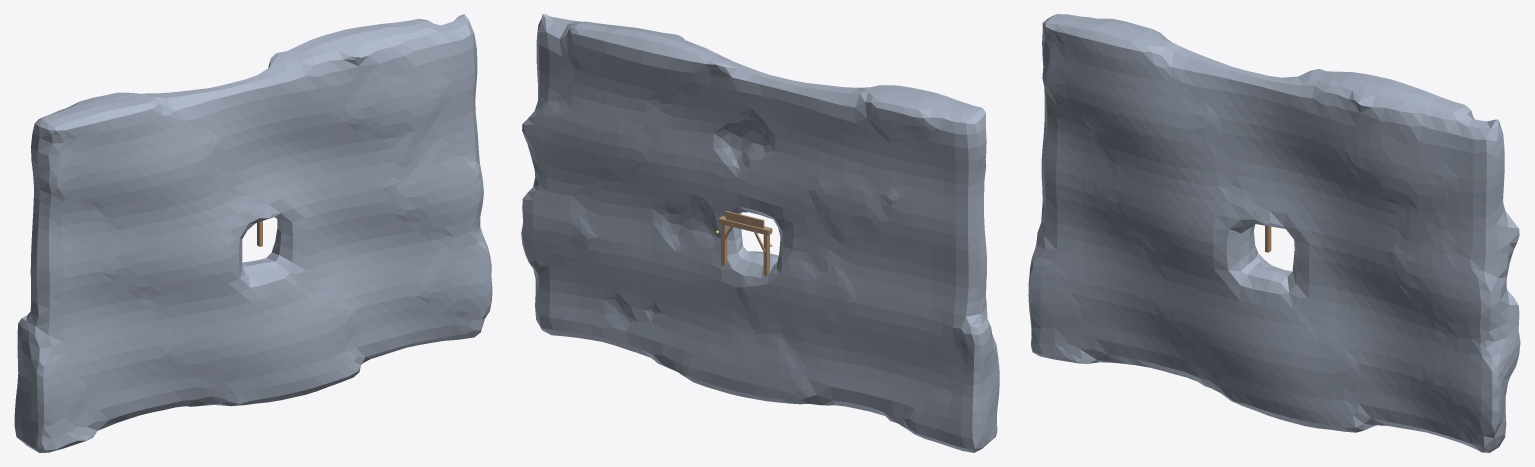
File: MinecartMayhemPortal.glb
3 views of the same model, side by side, from view 1: azimuth 30°, elevation 25°; view 2: azimuth 150°, elevation 25°; view 3: azimuth 330°, elevation 25° (orthographic). The views are drawn at different scales.
Parts seen in each view (by area): view 1: Rock; view 2: Rock, Timber; view 3: Rock.
Boxes of the visible parts, x1=… form: Rock: x1=14, y1=14, x2=492, y2=452; Rock: x1=521, y1=14, x2=999, y2=452; Timber: x1=718, y1=211, x2=772, y2=276; Rock: x1=1028, y1=14, x2=1520, y2=452.
Size of the model in its own units: 158 by 111 by 20.56.
